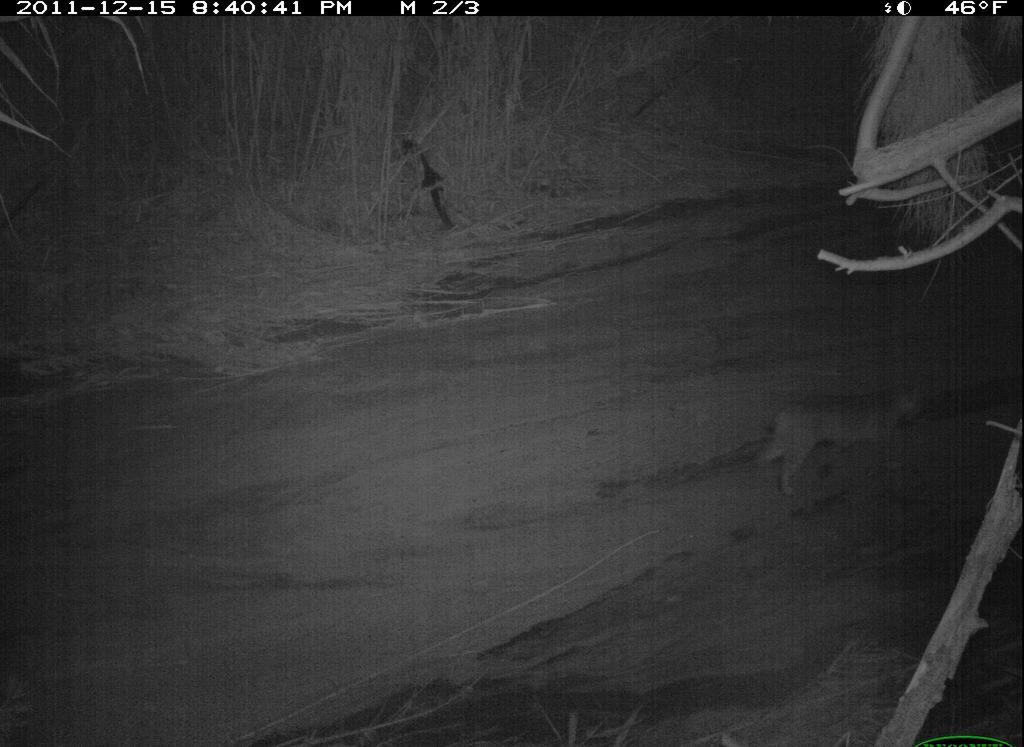bobcat: (731, 365, 939, 507)
